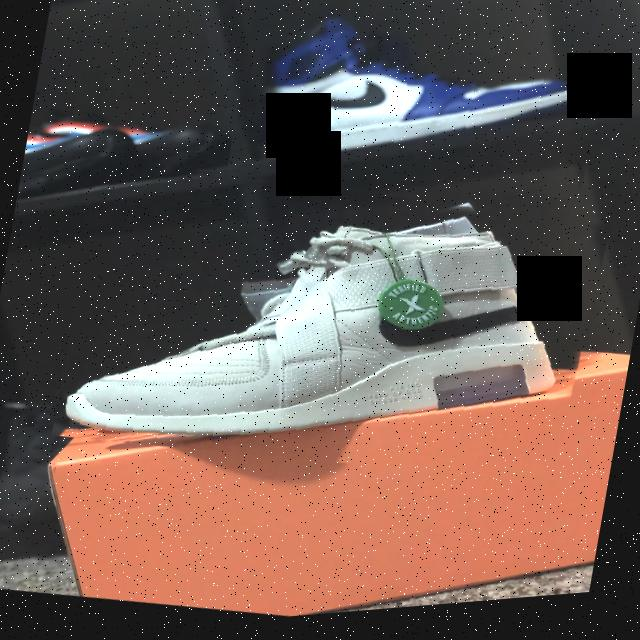shoe: (51, 126, 614, 527), (227, 0, 617, 233)
